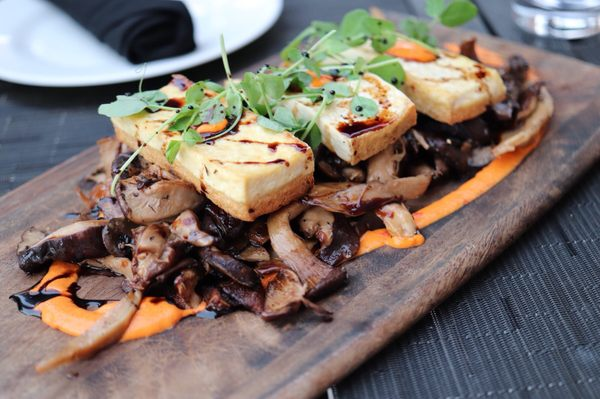pizza: (509, 1, 600, 41)
